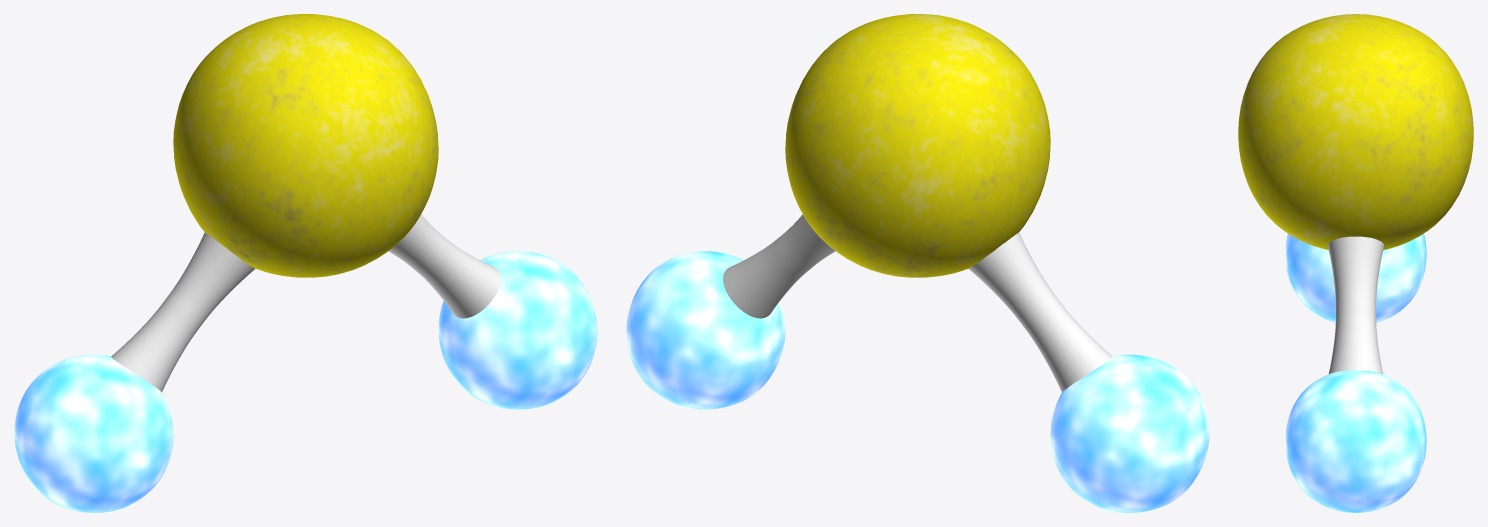
3 views of the same model, side by side, from view 1: azimuth 30°, elevation 25°; view 2: azimuth 150°, elevation 25°; view 3: azimuth 270°, elevation 25° (orthographic). The views are drawn at different scales.
Parts seen in each view (by area): view 1: sulfan; view 2: sulfan; view 3: sulfan.
Boxes of the visible parts, x1,y1,x2,y2 form: sulfan: (14,14,597,512); sulfan: (626,14,1209,512); sulfan: (1238,14,1473,512).
Size of the model in its own units: 5.01 by 3.64 by 2.02.
Materials: 3 (2 with a texture image).
